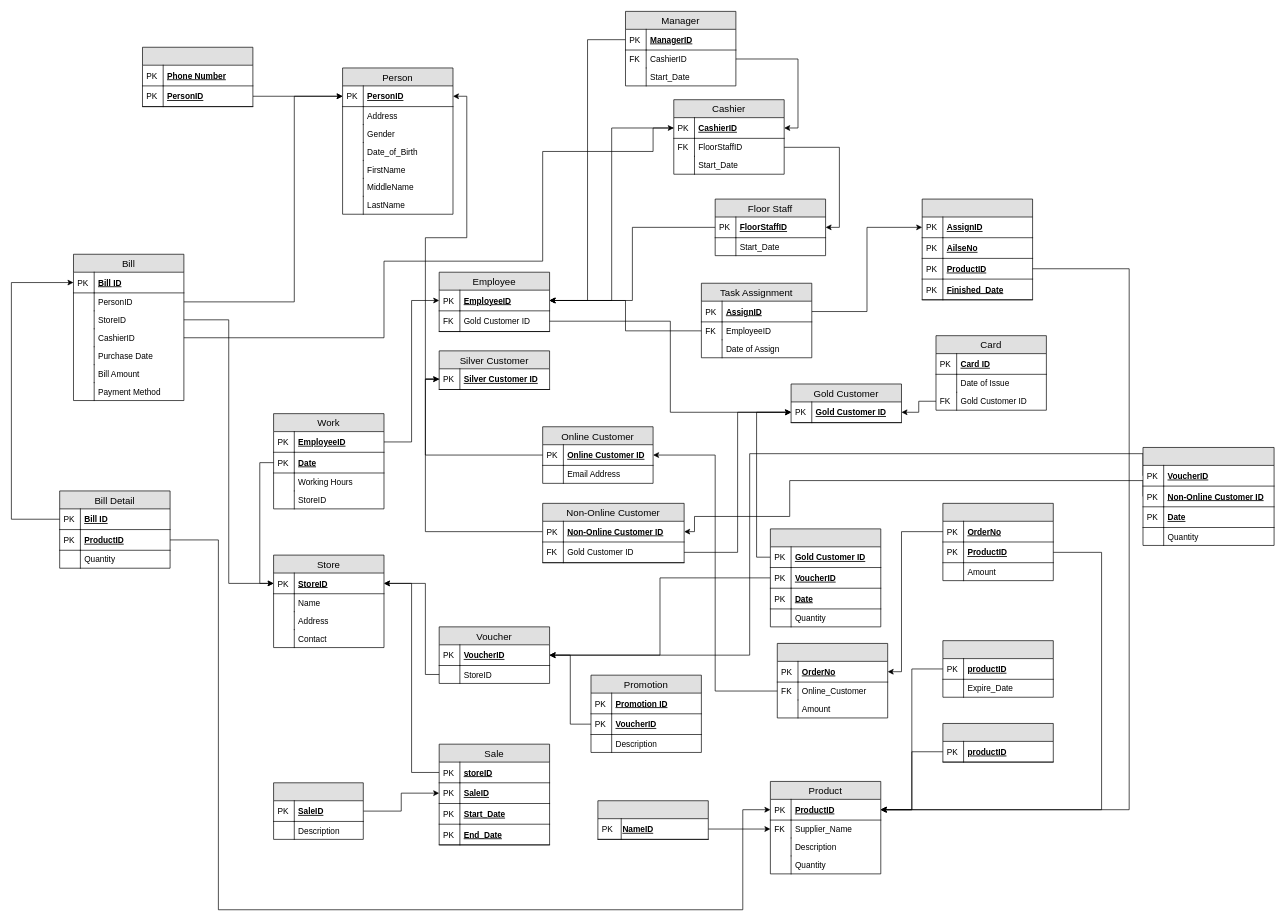
The diagram is 1285 pixels wide and 921 high, and some of its shapes have lost their labels. Here are the shapes that lost their labels. From the top down, the box of each, then its label:
(142, 47, 253, 107): Person's PhoneNo
(921, 198, 1033, 300): Aisle Product Details
(1142, 447, 1274, 545): Buy
(942, 503, 1053, 581): Online Order Details
(770, 528, 881, 627): Free
(777, 643, 888, 718): Online Order
(942, 640, 1053, 697): Perishable
(942, 723, 1053, 762): Non-Perishable
(273, 782, 363, 839): Sale Details
(597, 800, 708, 839): Supplier
